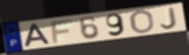6: (78, 15, 100, 40)
9: (105, 13, 126, 37)
A: (24, 23, 52, 48)
F: (50, 18, 74, 45)
J: (159, 6, 178, 30)
O: (130, 9, 156, 35)
